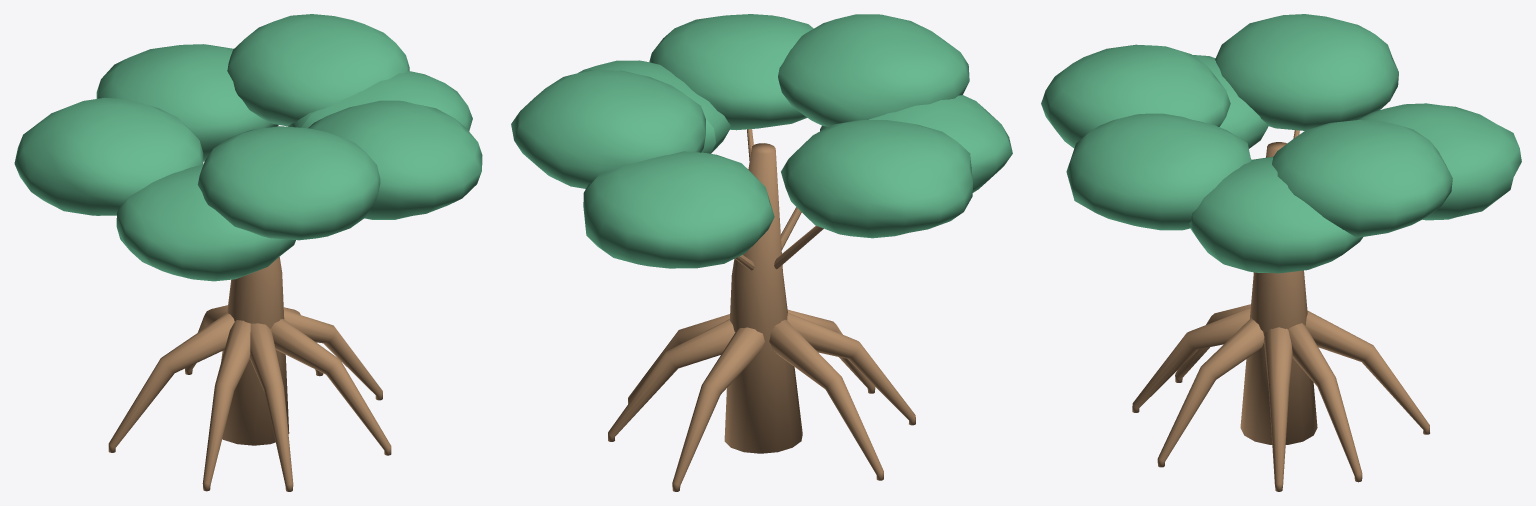
The model's file is large_red_mangrove_tropical_island_and_palm_trees_6810.glb.
3 renders of one model, left to right at view 1: azimuth 30°, elevation 25°; view 2: azimuth 150°, elevation 25°; view 3: azimuth 270°, elevation 25°, orthographic. The views are drawn at different scales.
Visible parts, largest first — view 1: red-mangrove-large; view 2: red-mangrove-large; view 3: red-mangrove-large.
Boxes of the visible parts, x1,y1,x2,y2 form: red-mangrove-large: [14, 14, 482, 491]; red-mangrove-large: [511, 14, 1012, 491]; red-mangrove-large: [1041, 14, 1521, 491].
Bounding box in the file's own units: 6.86 × 5.51 × 6.81.
